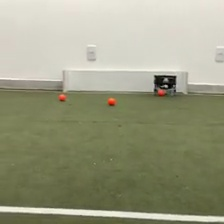ball: (157, 87, 166, 96), (107, 96, 116, 105), (58, 92, 67, 101)
goal: (61, 68, 191, 95)
robot: (152, 73, 178, 98)
